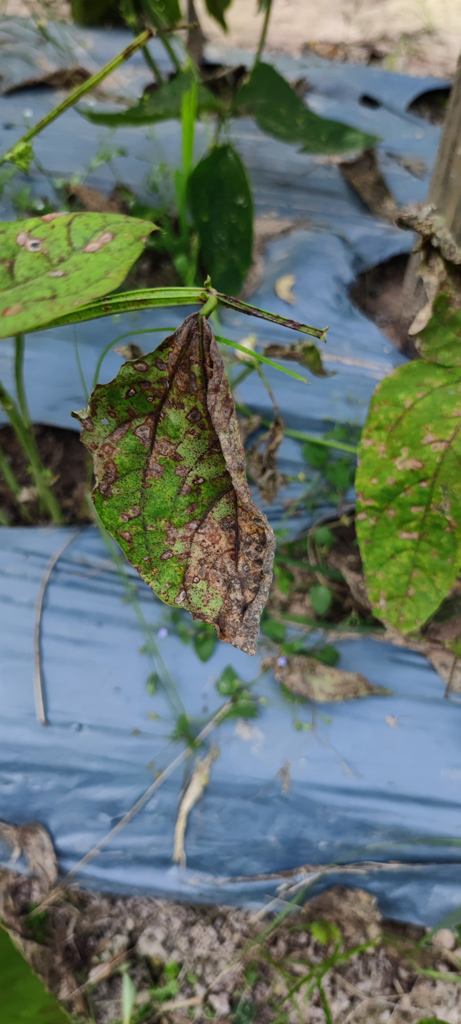Rust: (69, 312, 287, 665), (348, 354, 458, 640), (5, 201, 161, 356)
